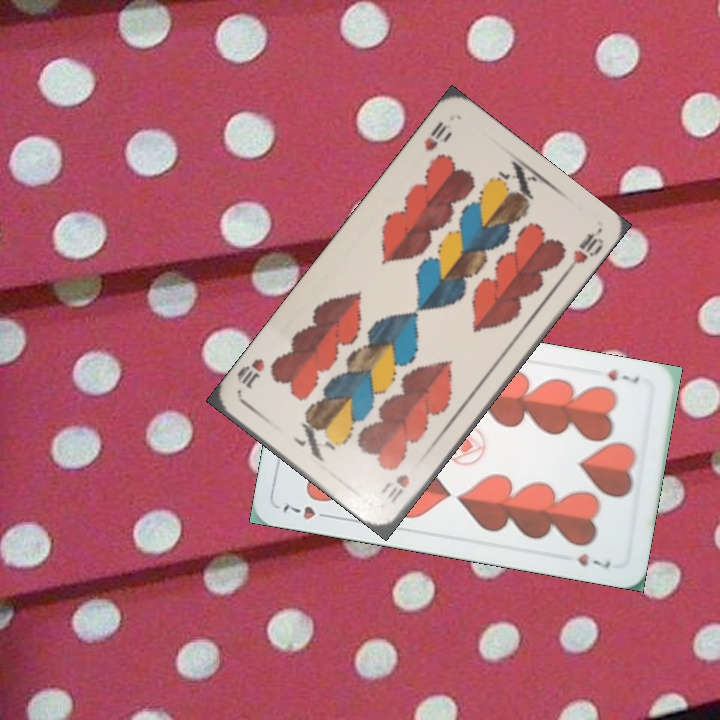H10: (419, 117, 455, 154), (382, 470, 413, 506)
H7: (279, 500, 335, 522), (603, 366, 642, 386)
